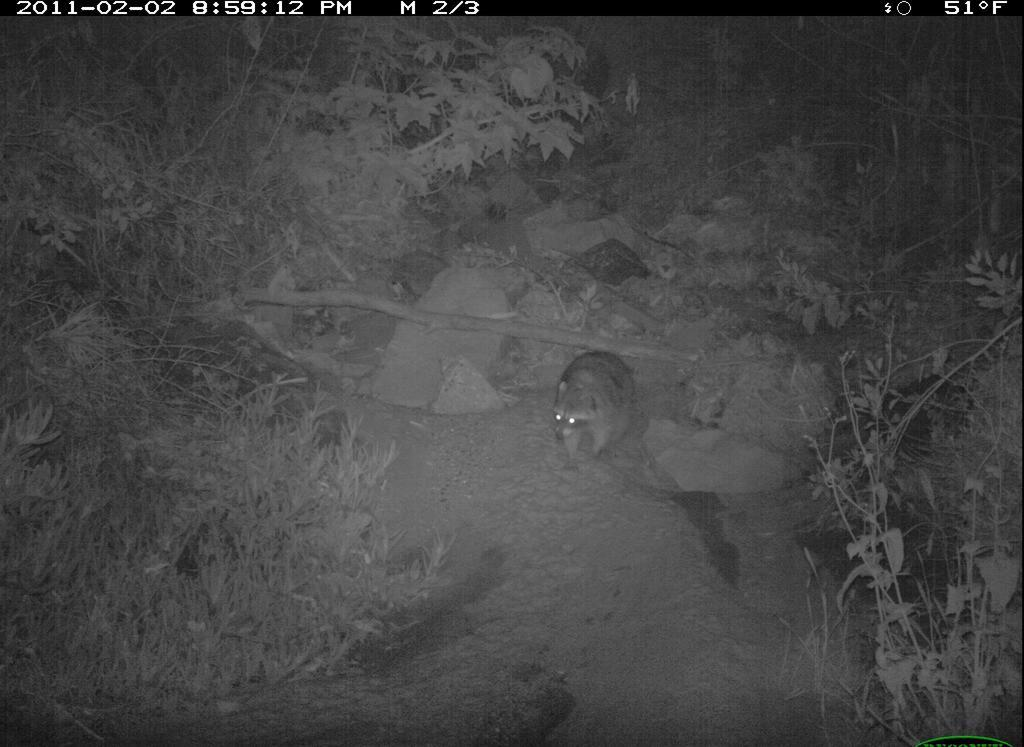raccoon: (543, 344, 644, 481)
